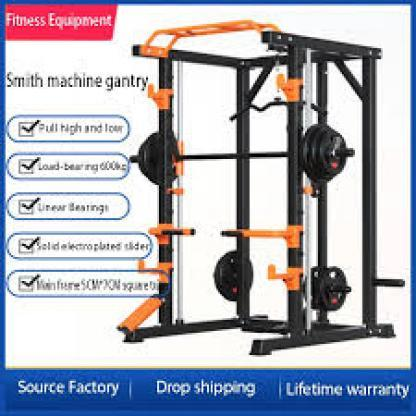smith machine: (152, 19, 405, 356)
